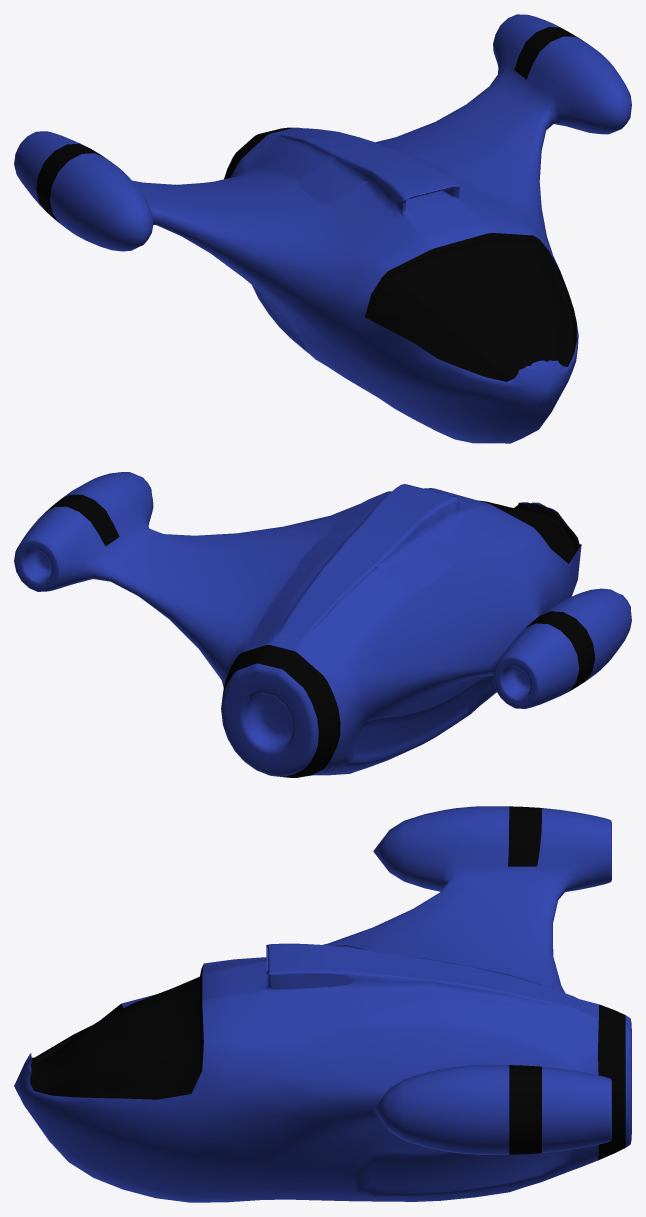
Rendered from Car_Layman.fbx.
The picture shows the model from 3 angles, top to bottom: view 1: azimuth 30°, elevation 25°; view 2: azimuth 150°, elevation 25°; view 3: azimuth 270°, elevation 25°; orthographic projection. The views are drawn at different scales.
Parts seen in each view (by area): view 1: Layman; view 2: Layman; view 3: Layman.
Part boxes in pixels (x1,y1,x2,y2): Layman: (14, 14, 631, 443); Layman: (14, 472, 631, 777); Layman: (14, 806, 631, 1202).
Size of the model in its own units: 305 by 123 by 270.
